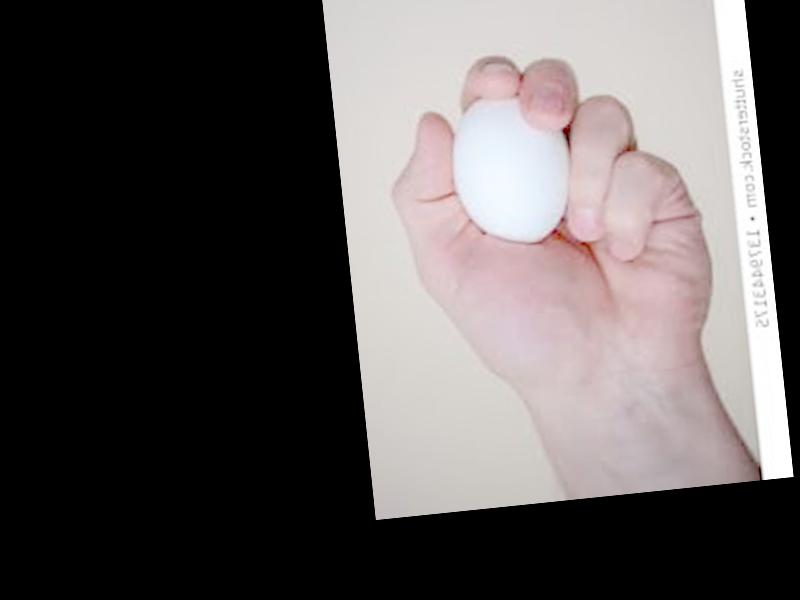Eggs: (446, 91, 576, 252)
